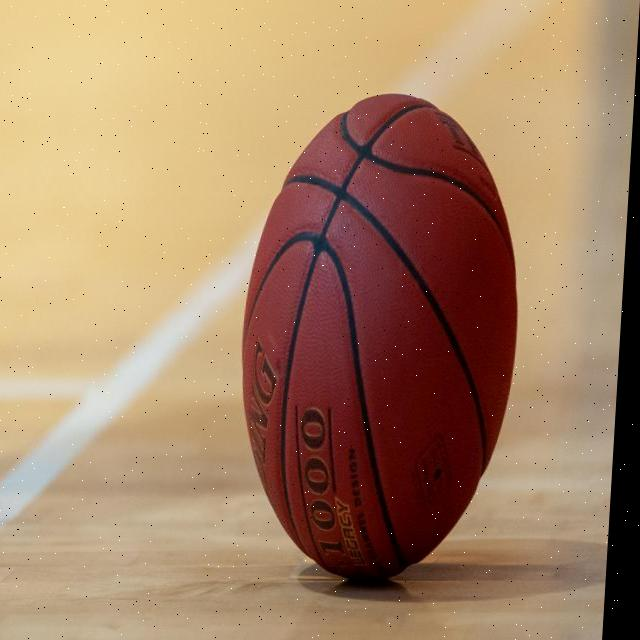Basketball: (229, 96, 533, 582)
